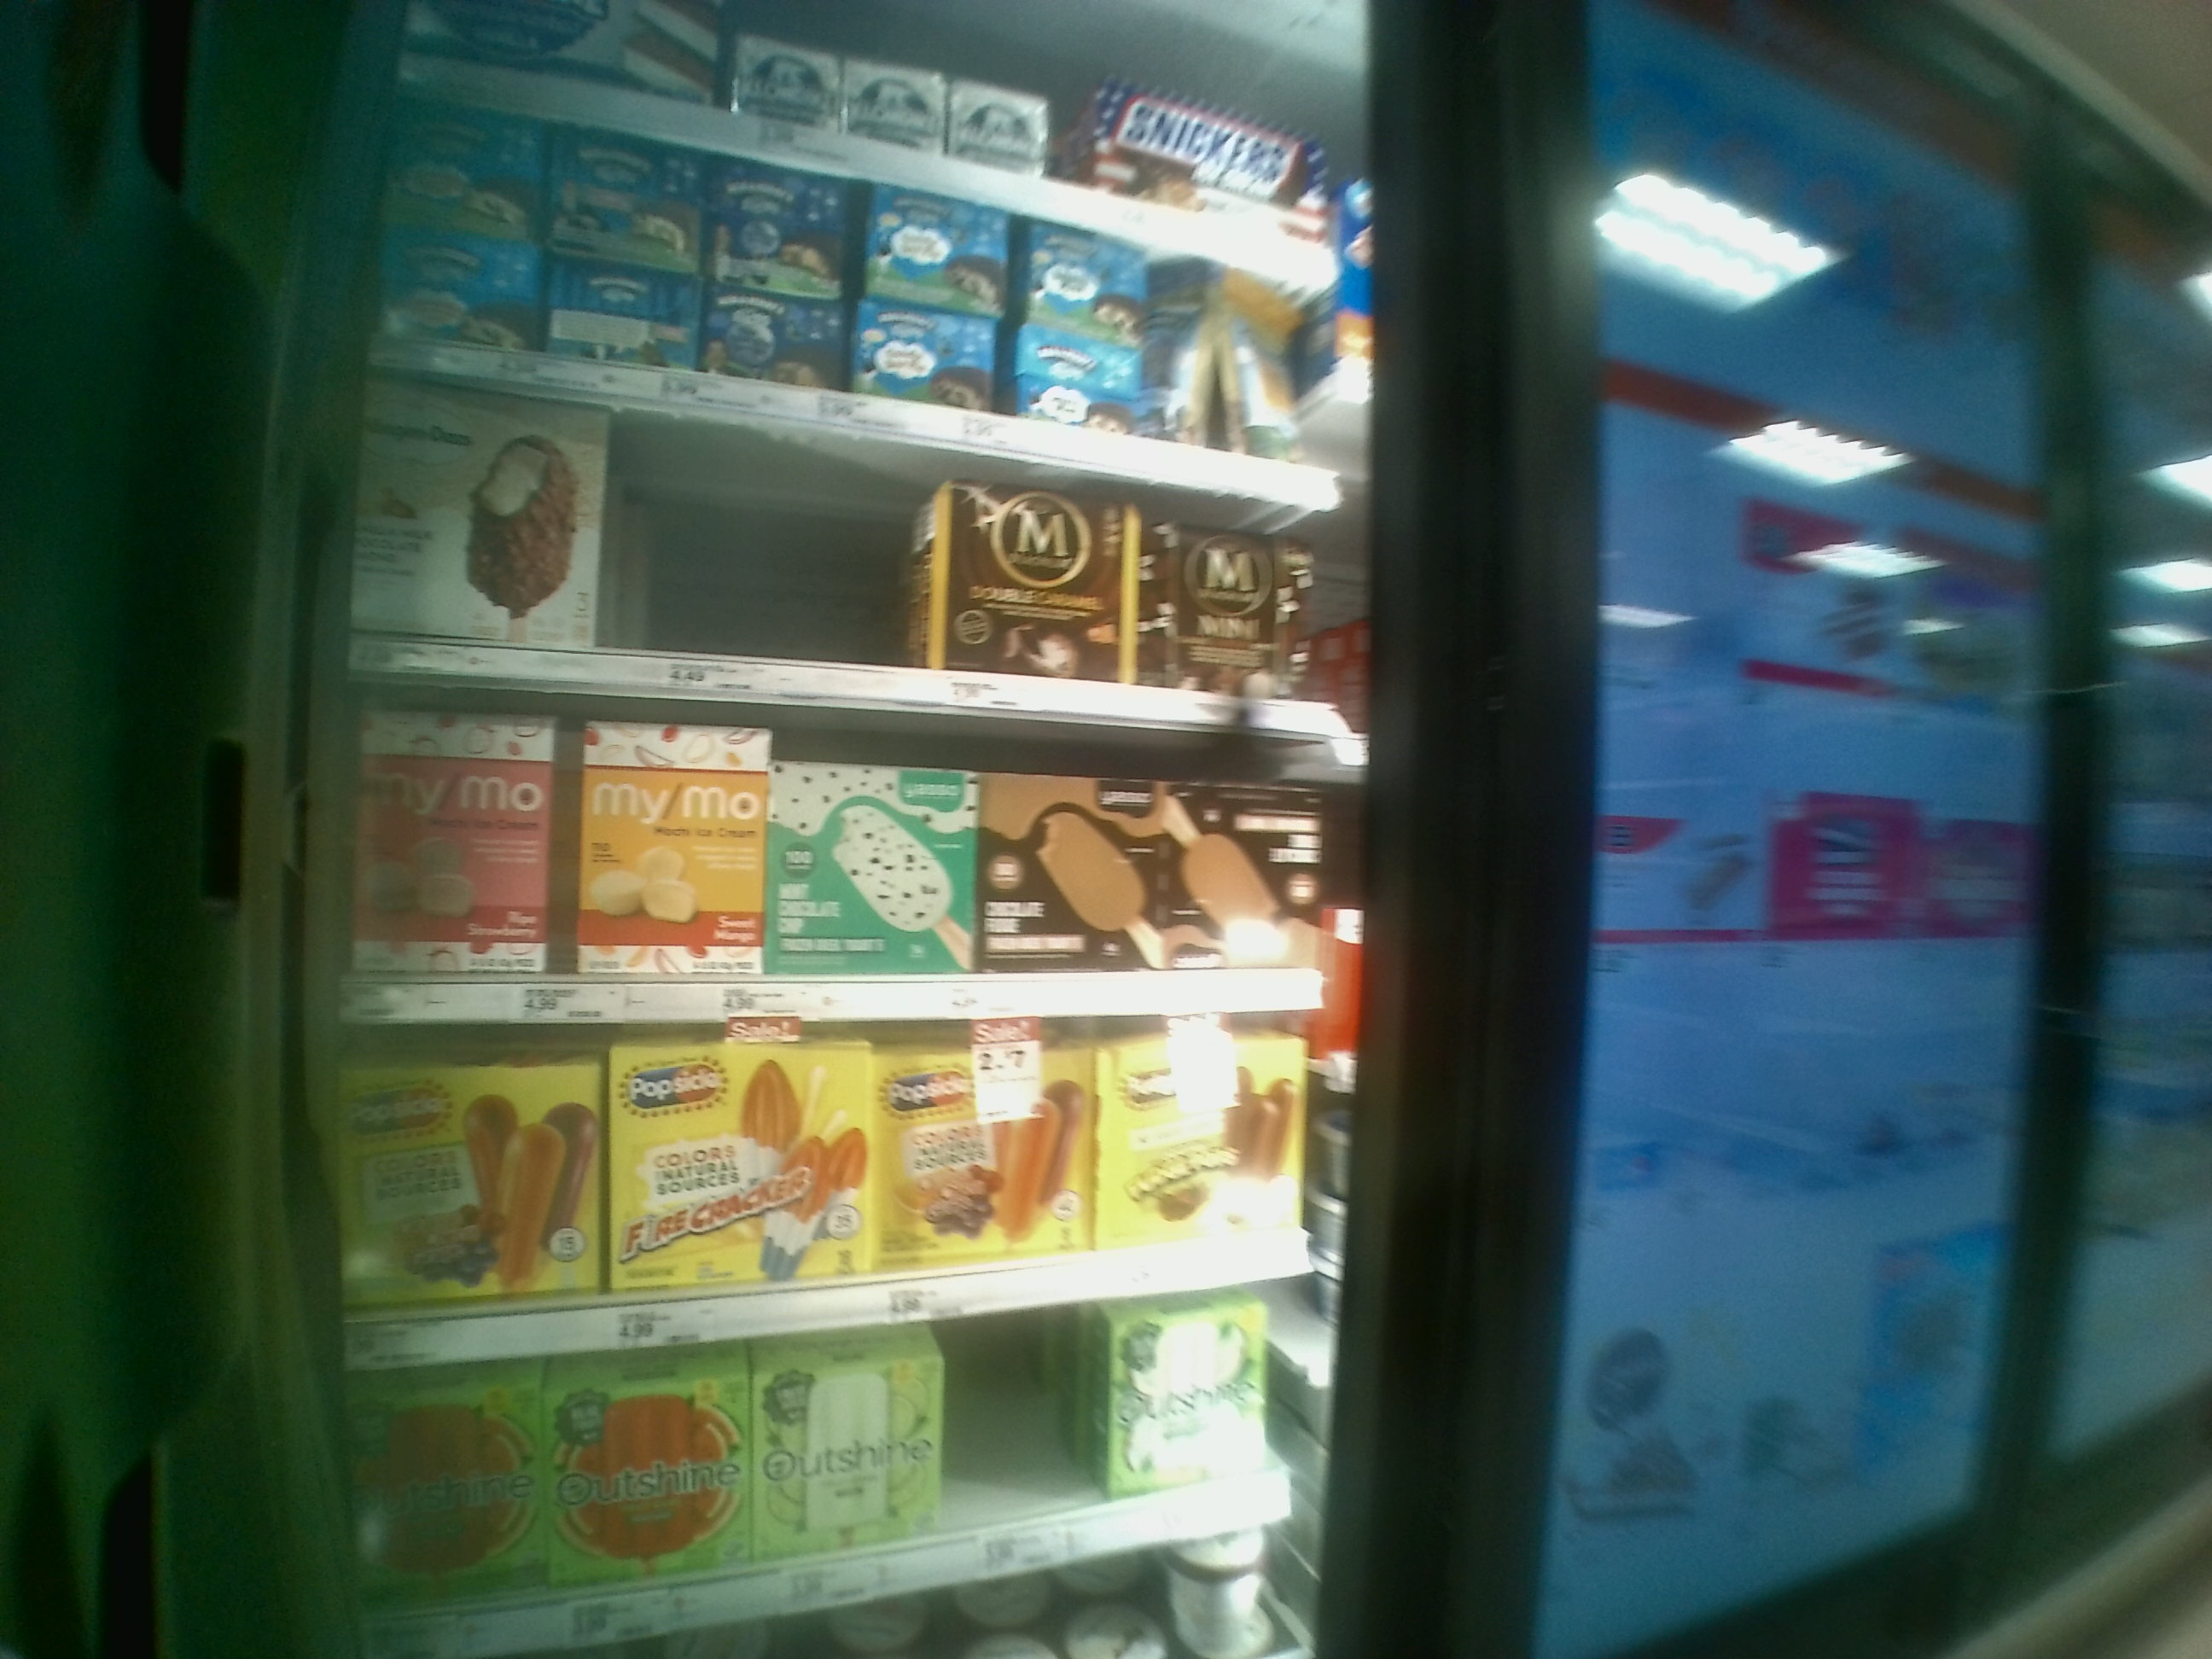ice-cream-shelf: (354, 673, 1345, 1012), (348, 1009, 1350, 1338)
